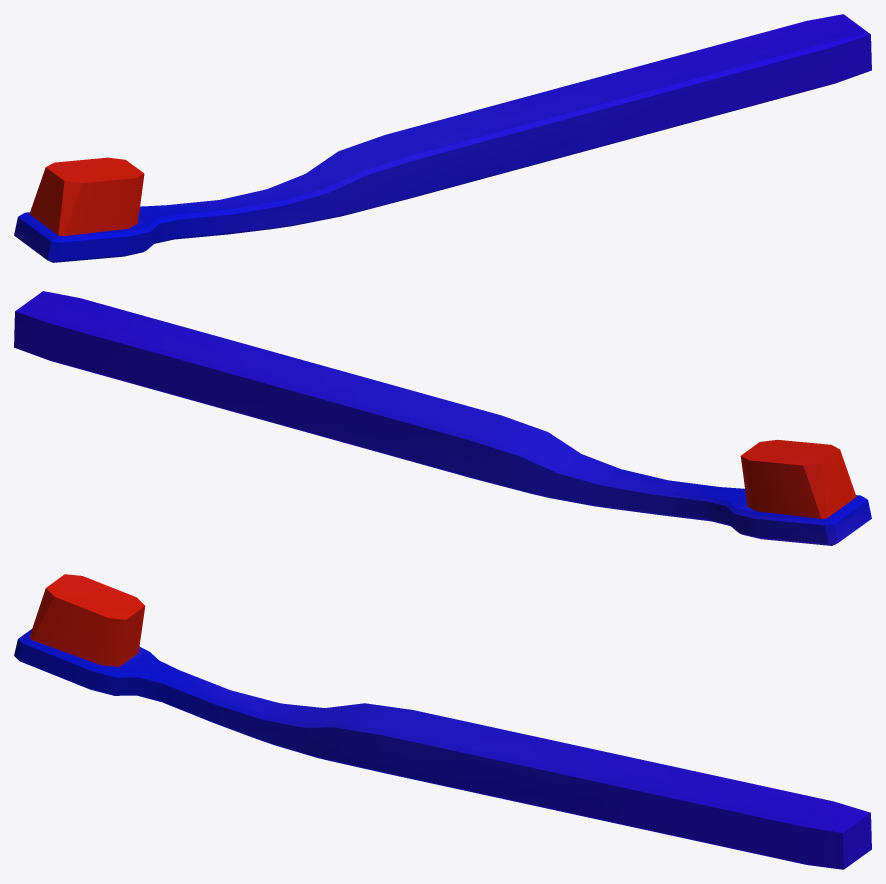
The model's file is kartacek.fbx.
3 views of the same model, one above another, from view 1: azimuth 30°, elevation 25°; view 2: azimuth 150°, elevation 25°; view 3: azimuth 330°, elevation 25° (orthographic).
Visible parts, largest first — view 1: Toothbrush; view 2: Toothbrush; view 3: Toothbrush.
Boxes of the visible parts, x1,y1,x2,y2 form: Toothbrush: [14, 14, 871, 262]; Toothbrush: [14, 291, 871, 545]; Toothbrush: [14, 574, 871, 869].
Bounding box in the file's own units: 1215 × 141 × 98.85.
